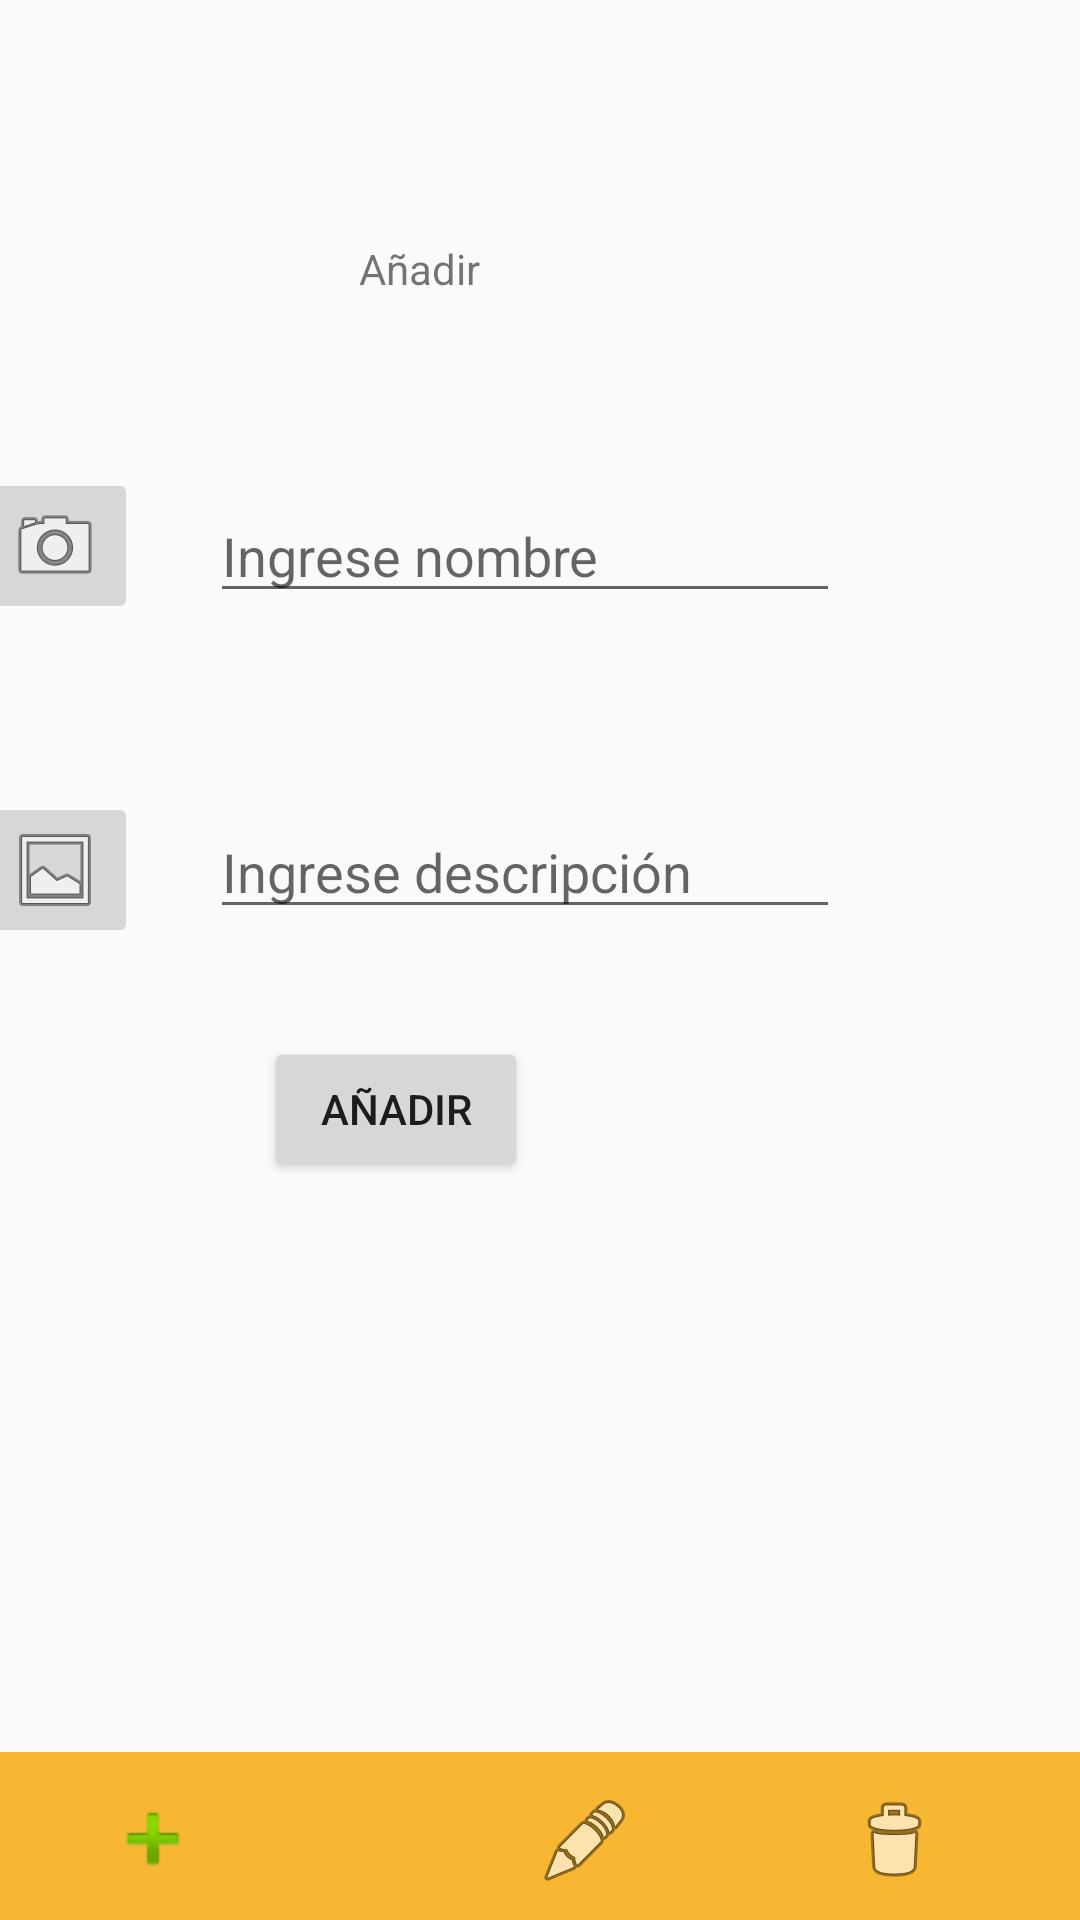

Screen size 1080px x 1920px. Icon name, then its center in pixels as (x=x, y=y):
add: (x=153, y=1839)
delete: (x=894, y=1839)
edit: (x=584, y=1840)
